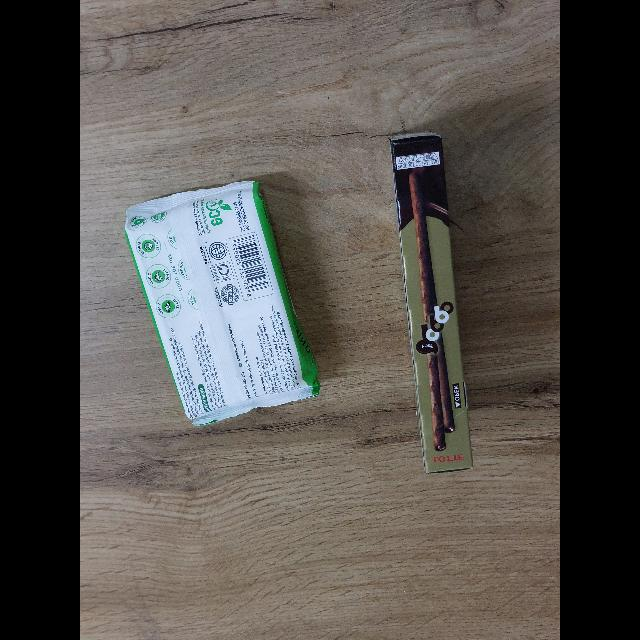banh_toppo_socola: (389, 131, 473, 474)
khan_giay: (124, 177, 321, 425)
